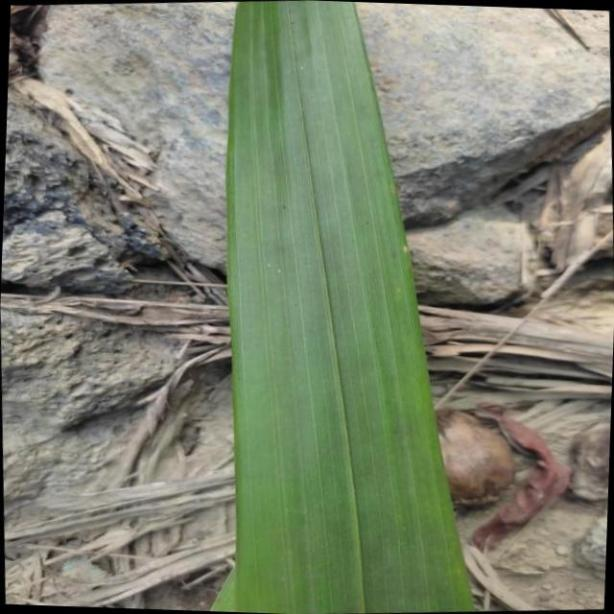Healthy: (231, 0, 474, 614)
